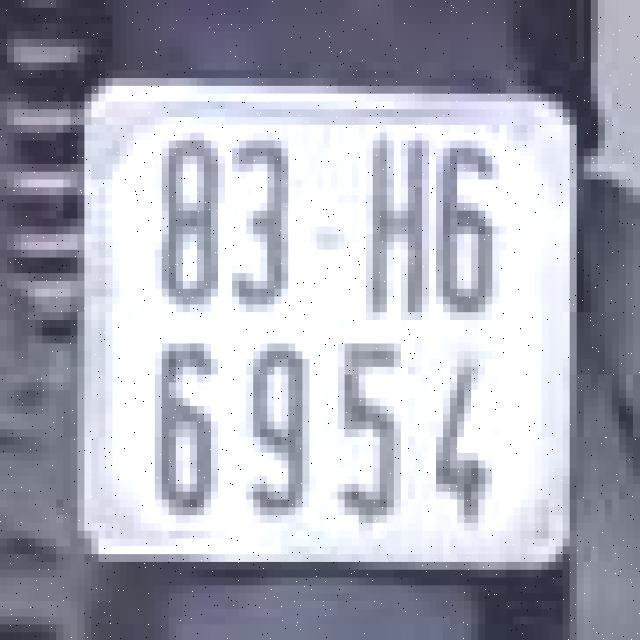3: (232, 129, 295, 316)
4: (429, 343, 499, 531)
5: (334, 328, 411, 523)
6: (432, 132, 510, 328), (148, 332, 225, 519)
8: (151, 125, 222, 304)
9: (239, 328, 317, 523)
H: (362, 121, 433, 324)
